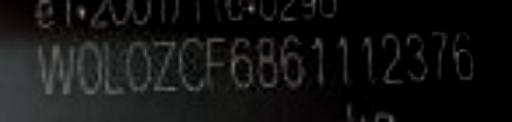letter: (35, 41, 77, 96), (444, 27, 480, 85), (374, 31, 410, 89), (174, 34, 210, 90), (146, 37, 182, 92), (424, 27, 456, 85), (224, 34, 256, 92), (252, 34, 284, 90), (400, 30, 434, 82), (74, 38, 104, 96), (276, 34, 308, 86), (122, 41, 154, 92), (326, 30, 354, 86), (203, 34, 231, 90), (98, 41, 126, 96), (354, 30, 378, 86), (305, 34, 329, 86)
